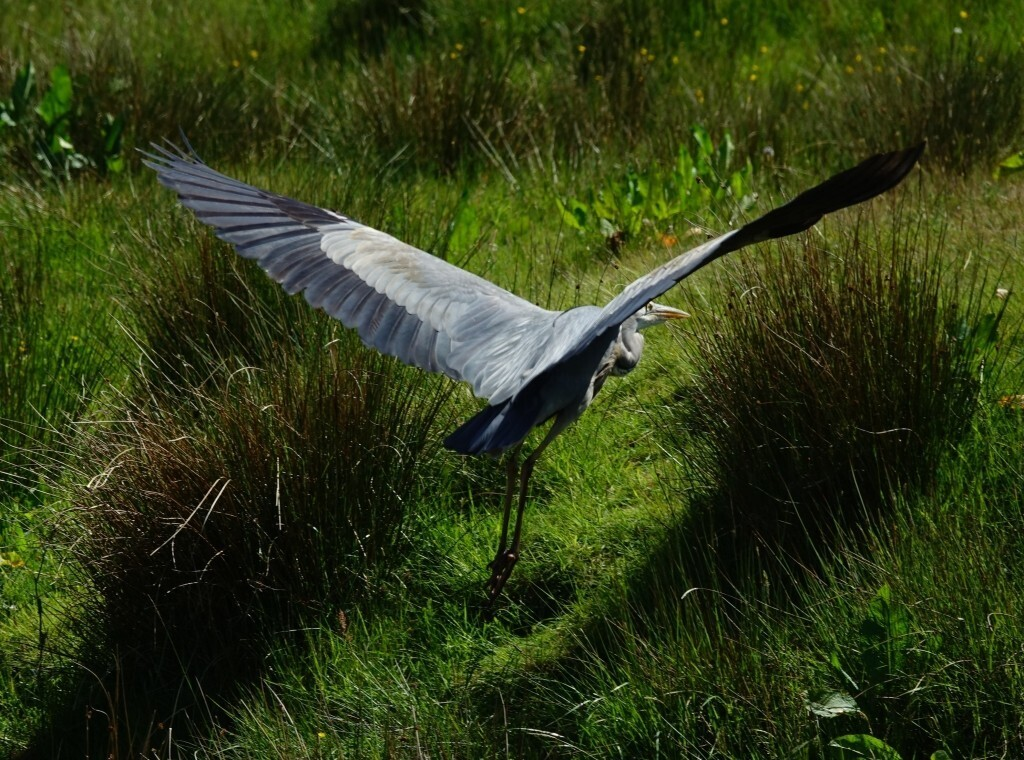heron: (132, 127, 926, 584)
